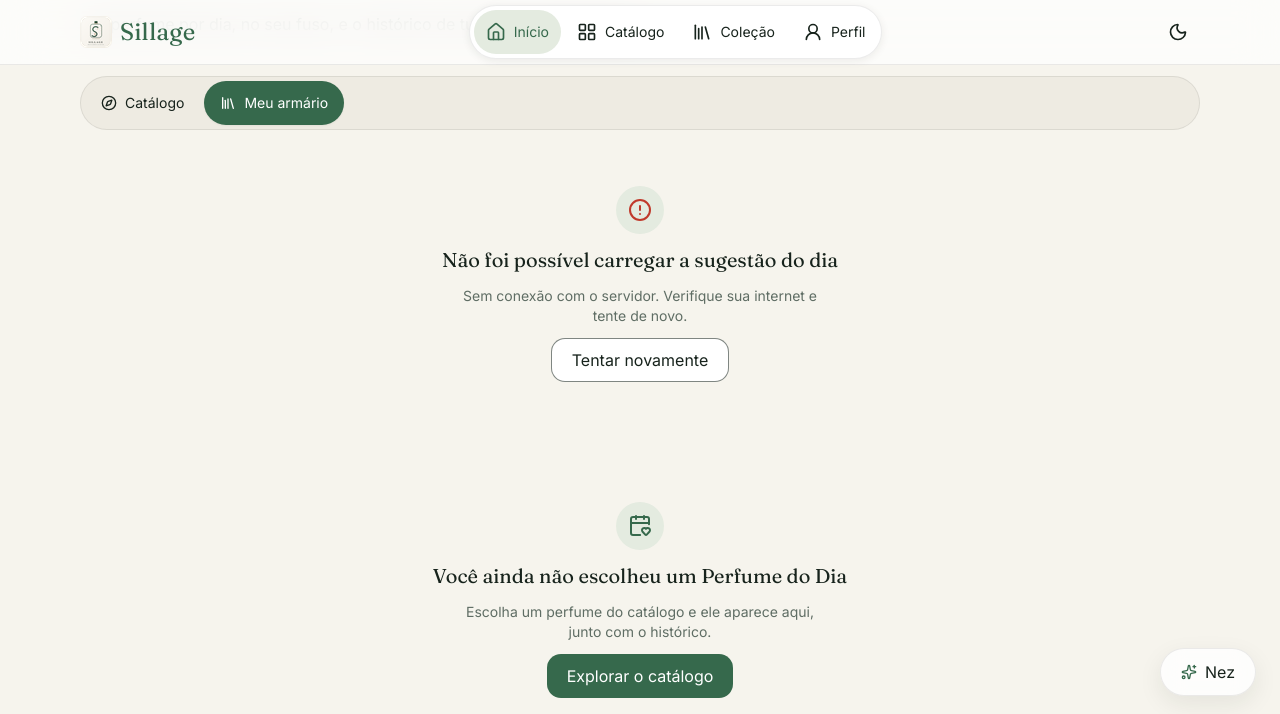
Test case: HomePage › origem da sugestão: Catálogo e Meu armário (17B) › falha no detalhe mostra o erro com tentar de novo
(page scrolled)
Expected: the heading "Não foi possível carregar a sugestão do dia" is shown, [442, 246, 838, 274]
Click the button "Tentar novamente" at (640, 360), box [551, 338, 729, 382]
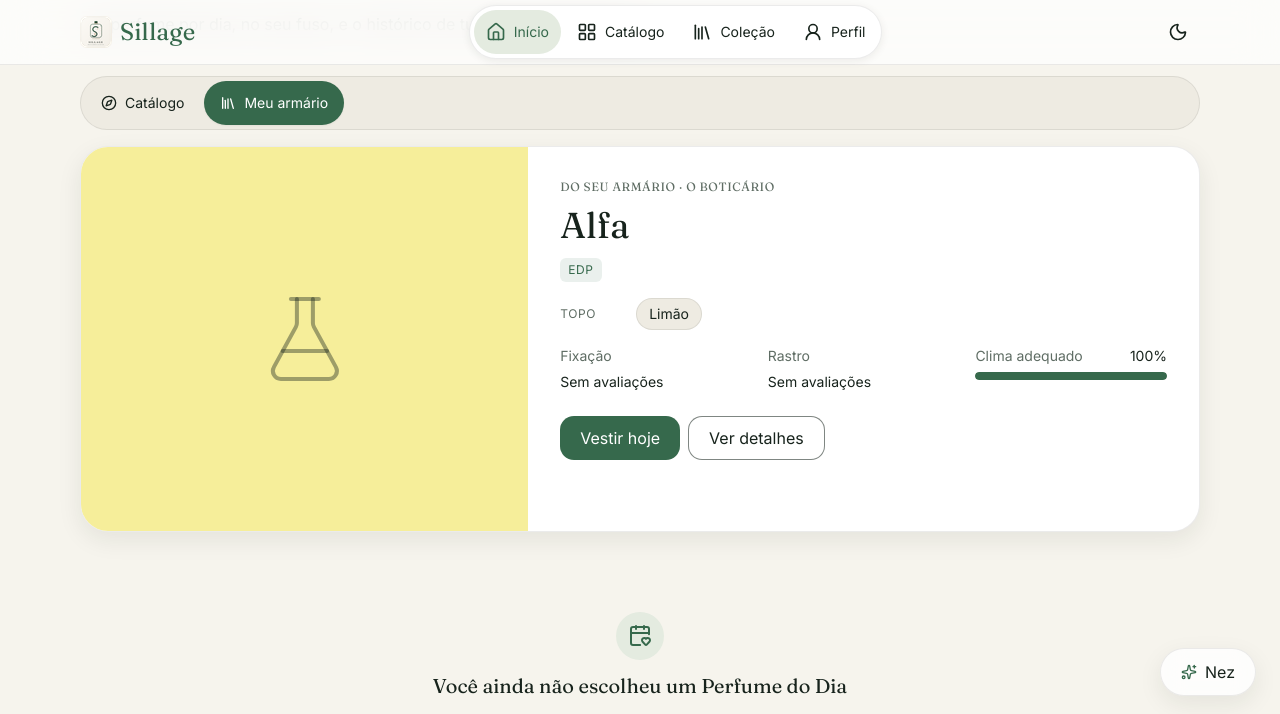
Now the element named "Sugestão do dia" is shown, box [80, 146, 1200, 532]
